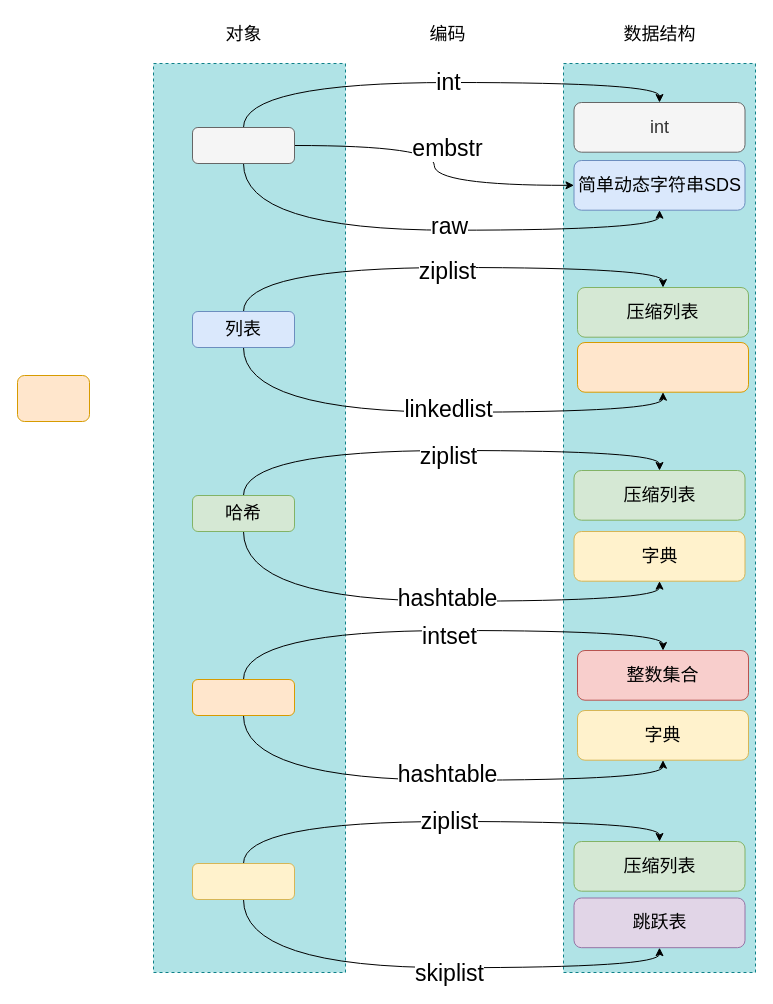
Some shapes in this 773 by 1004 pixel diagram are drawn without their labels. The centre of each missing label's shape, as x and y in pixels:
"key" goes at point 53,398.
"字符串" goes at point 243,145.
"有序集合" goes at point 243,881.
"链表" goes at point 662,367.
"集合" goes at point 243,697.
